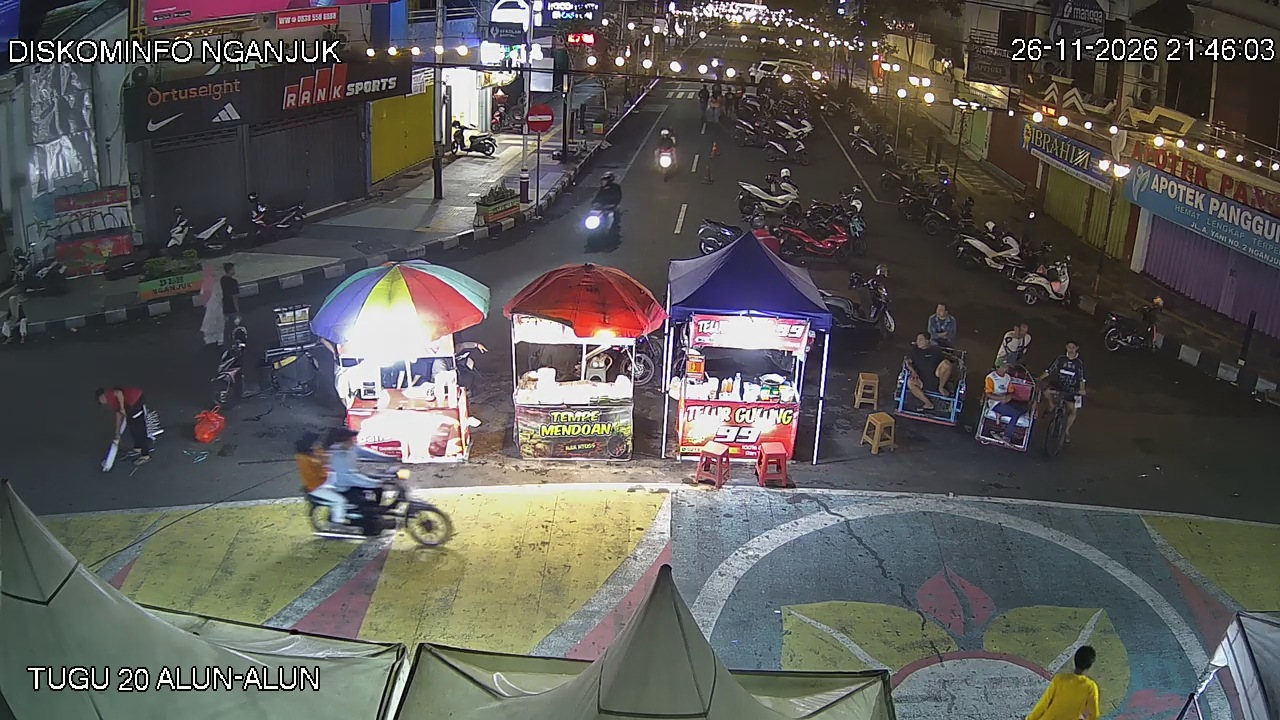Gerobak: (314, 259, 492, 462)
